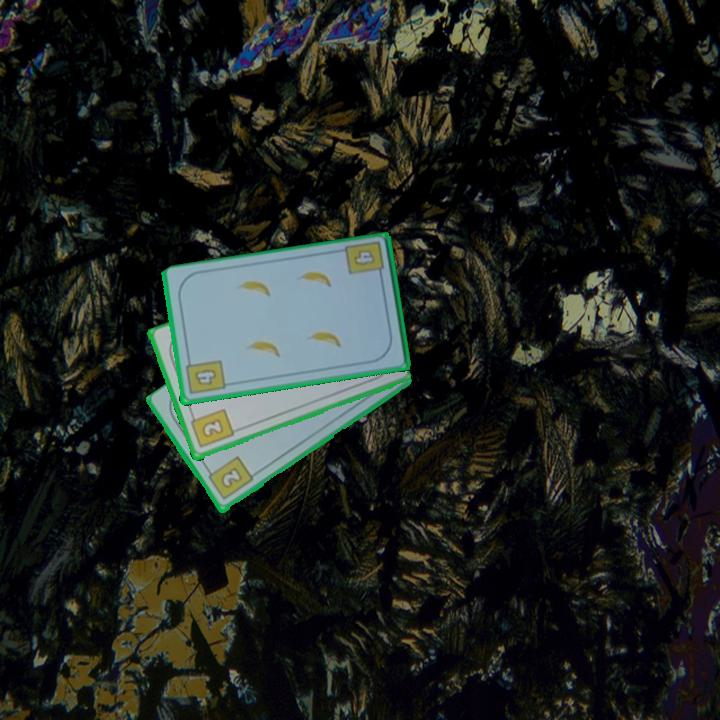2b: (203, 453, 256, 503), (187, 406, 236, 451)
4b: (342, 238, 387, 283), (182, 355, 227, 398)
